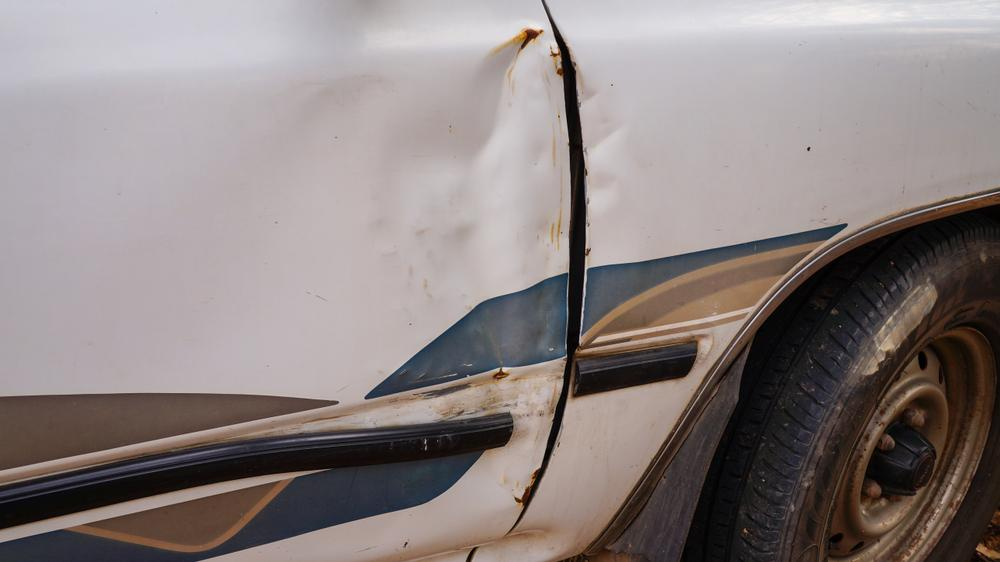dent: (294, 42, 563, 450), (577, 77, 633, 235)
